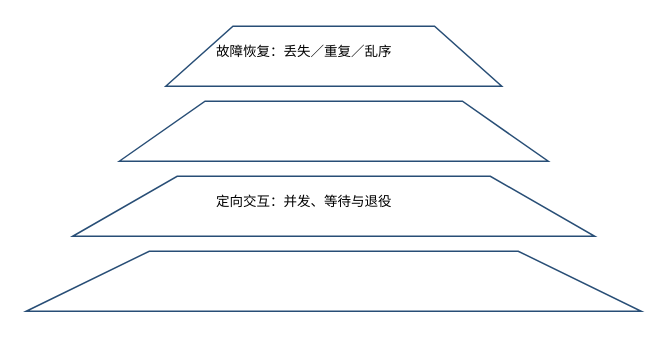
Image size: 668x338. Some labels were removed from this diagram. Here are the shapes that lost their labels. From the top down, the centre of each, then its label:
(333,130): 端到端：数据、权限与完成
(333,280): 形式化：Safety 与条件化 Liveness
